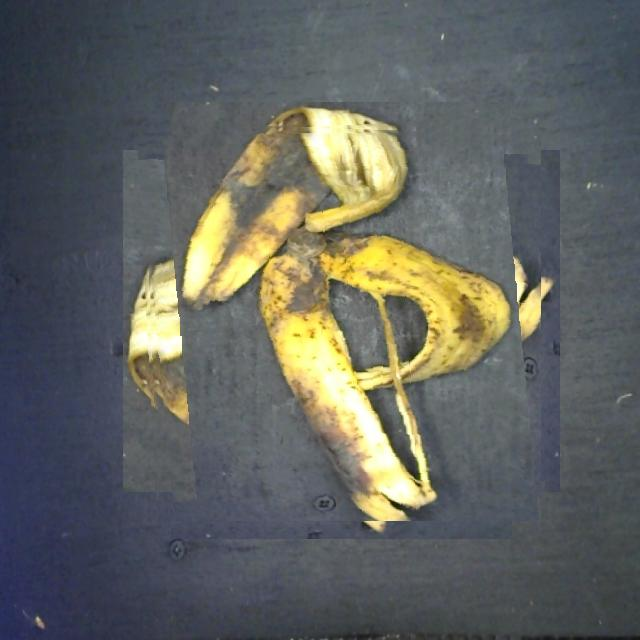biodegradable: (142, 121, 541, 521)
